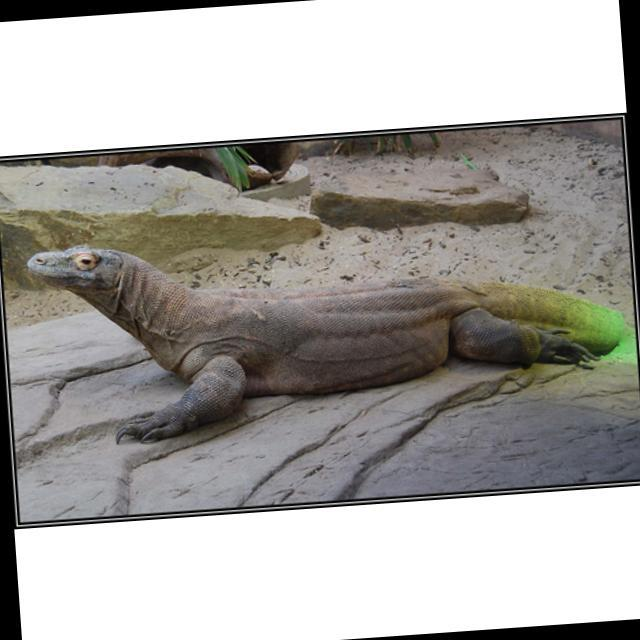KomodoDragon: (25, 204, 630, 447)
